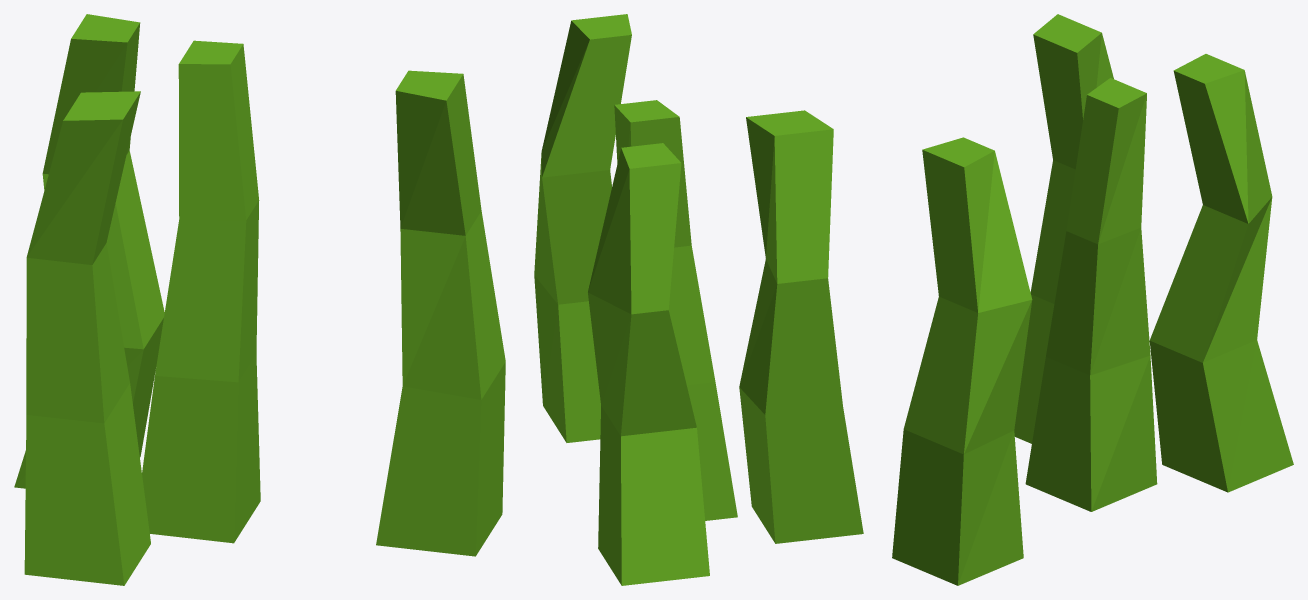
File: Grass1.fbx
The picture shows the model from 3 angles, left to right: view 1: azimuth 30°, elevation 25°; view 2: azimuth 150°, elevation 25°; view 3: azimuth 270°, elevation 25°; orthographic projection. The views are drawn at different scales.
Visible parts, largest first — view 1: Merged; view 2: Merged; view 3: Merged.
Boxes of the visible parts, <box> form: Merged: <box>14,14,505,585</box>; Merged: <box>534,14,863,585</box>; Merged: <box>892,14,1293,585</box>.
Bounding box in the file's own units: 117 × 117 × 106.
